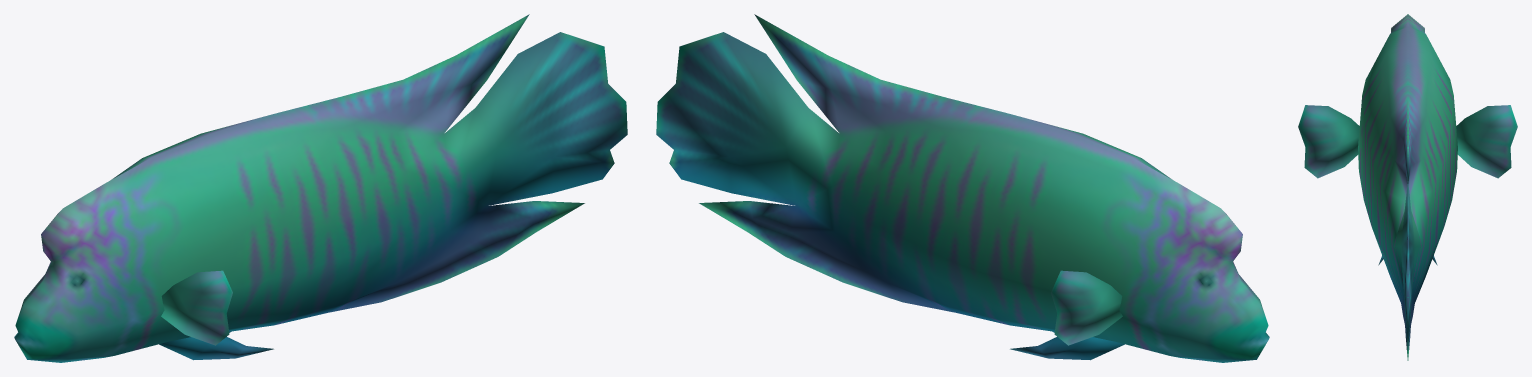
The model's file is f17_sumeiyu.FBX.
3 views of the same model, side by side, from view 1: azimuth 30°, elevation 25°; view 2: azimuth 150°, elevation 25°; view 3: azimuth 270°, elevation 25° (orthographic). The views are drawn at different scales.
Parts seen in each view (by area): view 1: f17_sumeiyu; view 2: f17_sumeiyu; view 3: f17_sumeiyu.
Boxes of the visible parts, box(x1,y1,x2,y2) form: f17_sumeiyu: box(14, 14, 627, 362); f17_sumeiyu: box(656, 14, 1269, 362); f17_sumeiyu: box(1298, 14, 1517, 360).
Size of the model in its own units: 174 by 71.07 by 58.43.
Materials: 1 (1 with a texture image).
